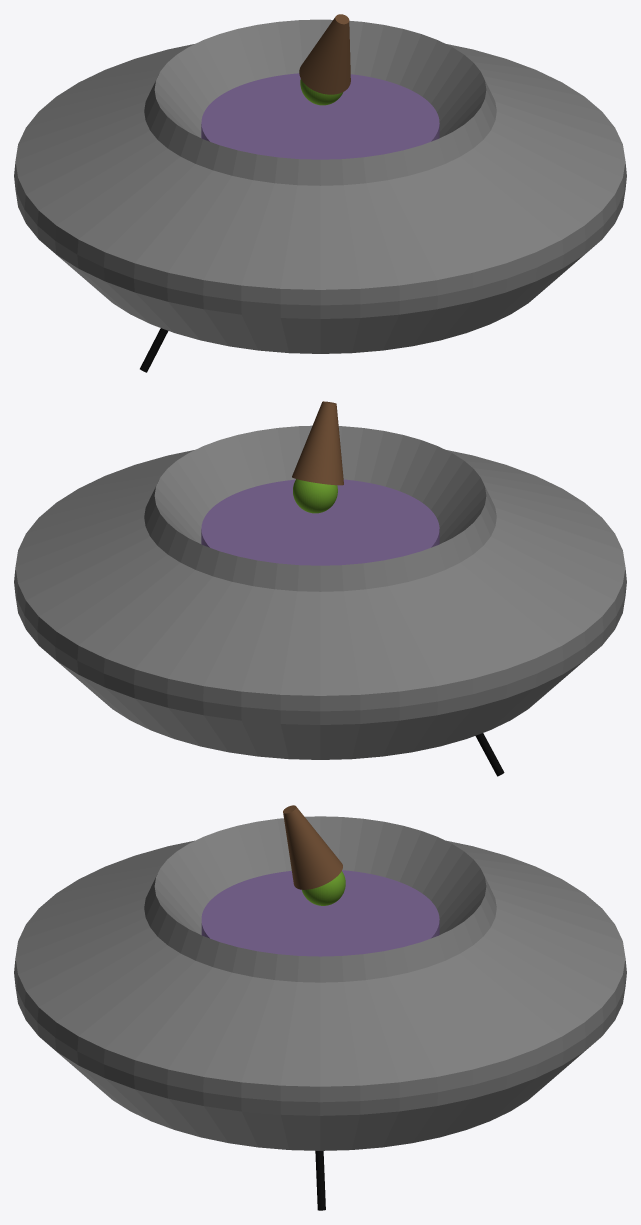
The model's file is spaceship.glb.
The picture shows the model from 3 angles, top to bottom: view 1: azimuth 30°, elevation 25°; view 2: azimuth 150°, elevation 25°; view 3: azimuth 270°, elevation 25°; orthographic projection.
Parts seen in each view (by area): view 1: Torus.003, Cylinder, Cone; view 2: Torus.003, Cylinder, Cone, Sphere; view 3: Torus.003, Cylinder, Cone, Sphere.
Boxes of the visible parts, left/top/right/bottom form: Torus.003: left=14, top=19, right=626, bottom=353; Cylinder: left=201, top=73, right=439, bottom=159; Cone: left=299, top=14, right=350, bottom=94; Torus.003: left=14, top=425, right=626, bottom=759; Cylinder: left=201, top=479, right=439, bottom=565; Cone: left=292, top=401, right=343, bottom=485; Sphere: left=293, top=479, right=337, bottom=513; Torus.003: left=14, top=816, right=626, bottom=1150; Cylinder: left=201, top=870, right=439, bottom=956; Cone: left=283, top=805, right=342, bottom=889; Sphere: left=302, top=871, right=345, bottom=905.
Bounding box in the file's own units: 2.98 × 1.72 × 2.98.
